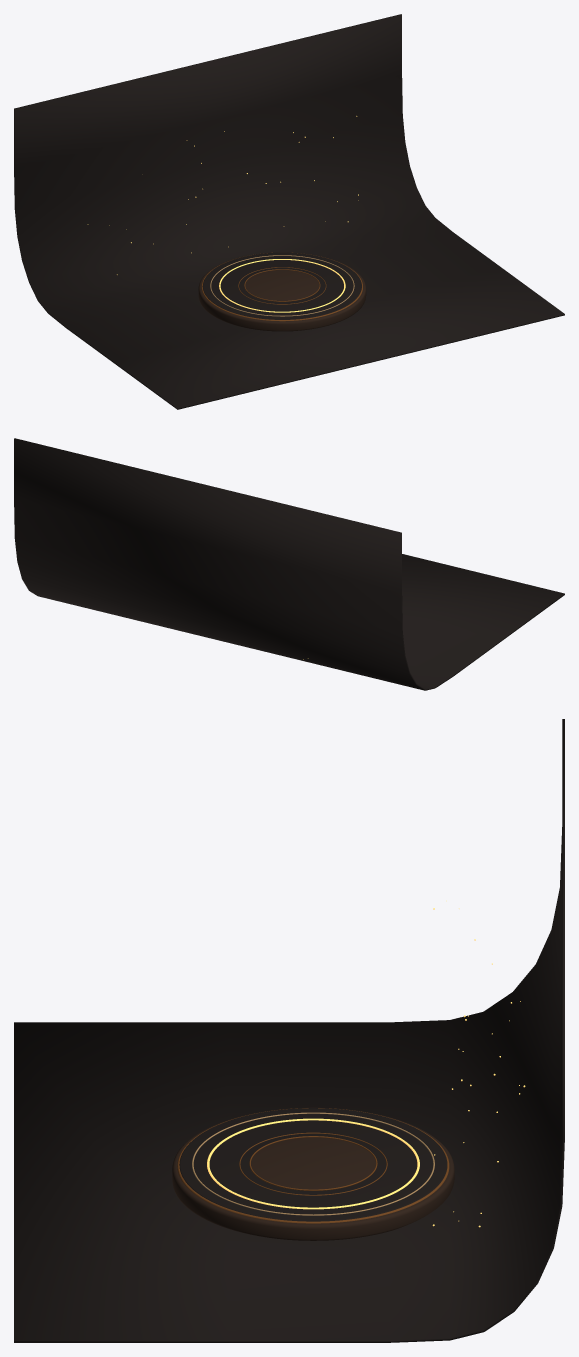
The model's file is sanad-environment.glb.
3 views of the same model, one above another, from view 1: azimuth 30°, elevation 25°; view 2: azimuth 150°, elevation 25°; view 3: azimuth 270°, elevation 25° (orthographic). The views are drawn at different scales.
Parts seen in each view (by area): view 1: SANAD_Backdrop, SANAD_Platform_Deck, SANAD_Platform, SANAD_Platform_Inner_Disc, SANAD_Platform_Ring_01; view 2: SANAD_Backdrop; view 3: SANAD_Backdrop, SANAD_Platform_Deck, SANAD_Platform, SANAD_Platform_Inner_Disc, SANAD_Platform_Ring_01, SANAD_Platform_Bronze_Trim, SANAD_Platform_Ring_03.
Part boxes in pixels (x1=…): SANAD_Backdrop: x1=14, y1=14, x2=564, y2=409; SANAD_Platform_Deck: x1=202, y1=252, x2=361, y2=319; SANAD_Platform: x1=198, y1=252, x2=366, y2=331; SANAD_Platform_Inner_Disc: x1=245, y1=270, x2=319, y2=300; SANAD_Platform_Ring_01: x1=219, y1=259, x2=345, y2=312; SANAD_Backdrop: x1=14, y1=438, x2=564, y2=690; SANAD_Backdrop: x1=14, y1=719, x2=564, y2=1342; SANAD_Platform_Deck: x1=179, y1=1108, x2=447, y2=1221; SANAD_Platform: x1=172, y1=1107, x2=454, y2=1240; SANAD_Platform_Inner_Disc: x1=251, y1=1137, x2=375, y2=1189; SANAD_Platform_Ring_01: x1=207, y1=1118, x2=419, y2=1209; SANAD_Platform_Bronze_Trim: x1=177, y1=1108, x2=449, y2=1223; SANAD_Platform_Ring_03: x1=192, y1=1112, x2=434, y2=1215.
Size of the model in its own units: 17.6 by 7.88 by 12.88.
